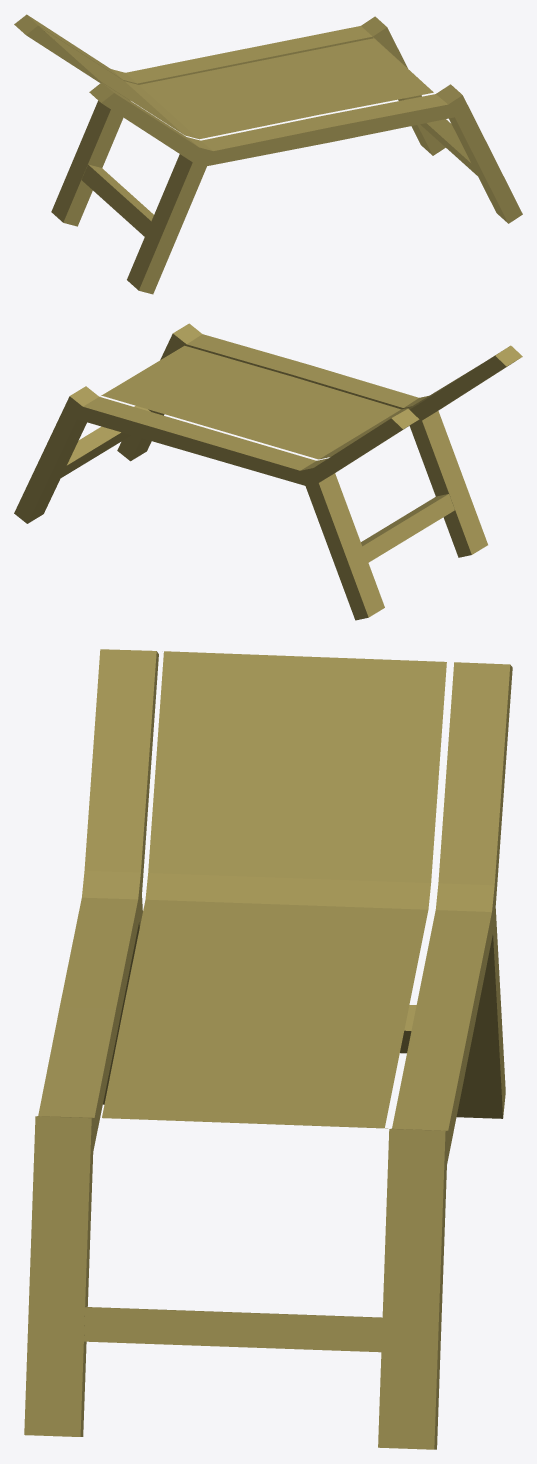
The model's file is beachchair(laydown).fbx.
3 views of the same model, one above another, from view 1: azimuth 30°, elevation 25°; view 2: azimuth 150°, elevation 25°; view 3: azimuth 270°, elevation 25° (orthographic). The views are drawn at different scales.
Parts seen in each view (by area): view 1: chair; view 2: chair; view 3: chair.
Part boxes in pixels (bbox=[...]): chair: bbox=[14, 14, 522, 294]; chair: bbox=[14, 323, 522, 620]; chair: bbox=[24, 649, 512, 1449].
Size of the model in its own units: 5.4 by 2.59 by 2.74.
